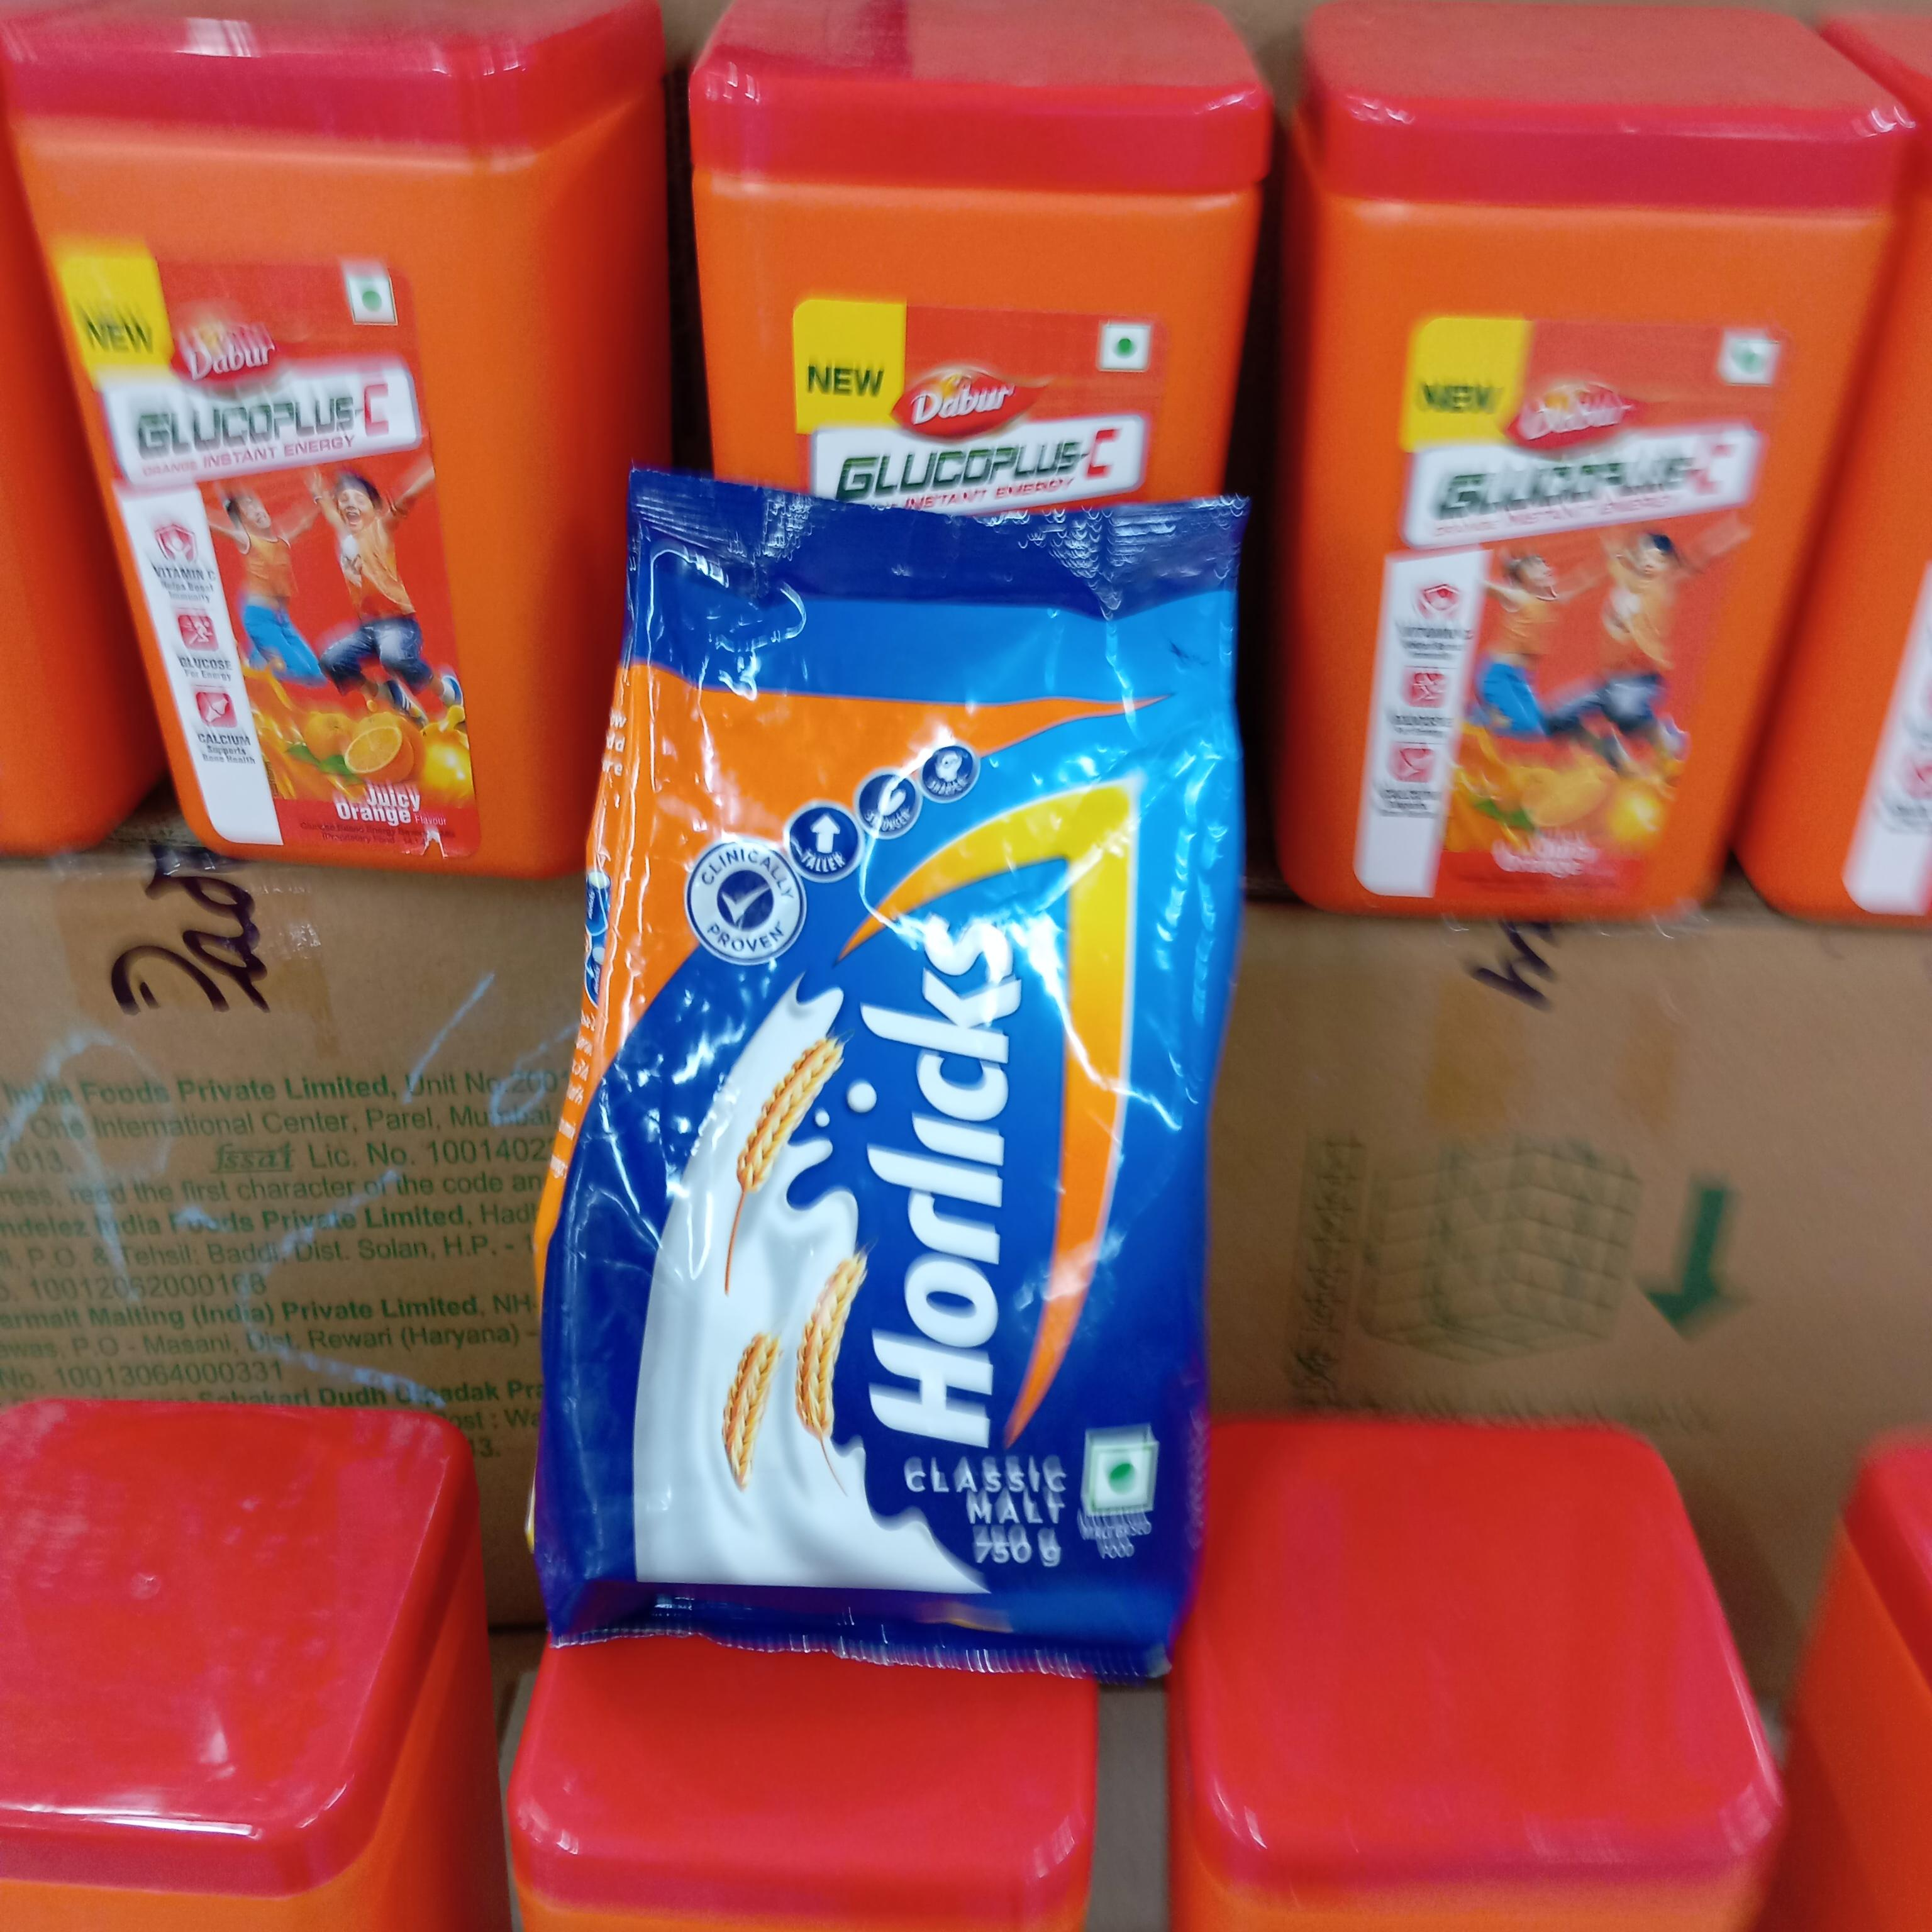HORLICK_CLASSIC_MALT_750_G_POUCH: (593, 462, 1189, 1688)
